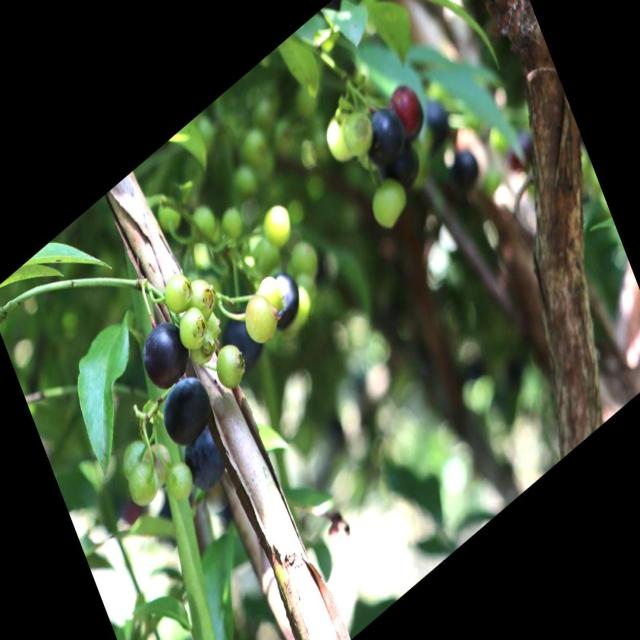blueberry: (134, 308, 198, 402), (155, 363, 216, 452), (174, 415, 232, 502), (214, 296, 272, 381), (258, 258, 308, 334), (372, 132, 424, 202), (359, 96, 409, 167), (441, 135, 484, 194)
blueberry-halfripe: (388, 75, 428, 139)
blueberry-unripe: (236, 282, 280, 353), (364, 170, 410, 236), (156, 264, 195, 322), (210, 336, 247, 393), (175, 300, 212, 354), (122, 454, 158, 509), (161, 456, 195, 506), (188, 272, 218, 321)
